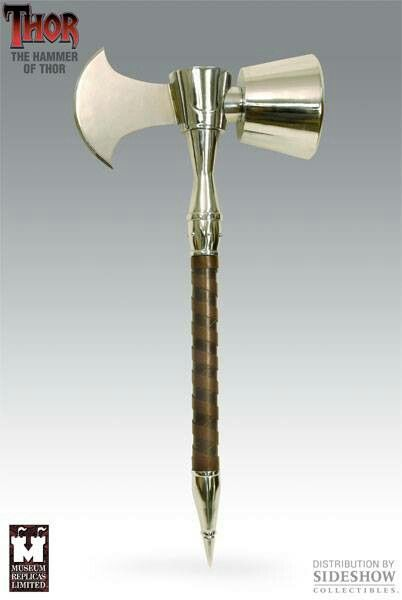THOR Hammer: (69, 45, 328, 549)
